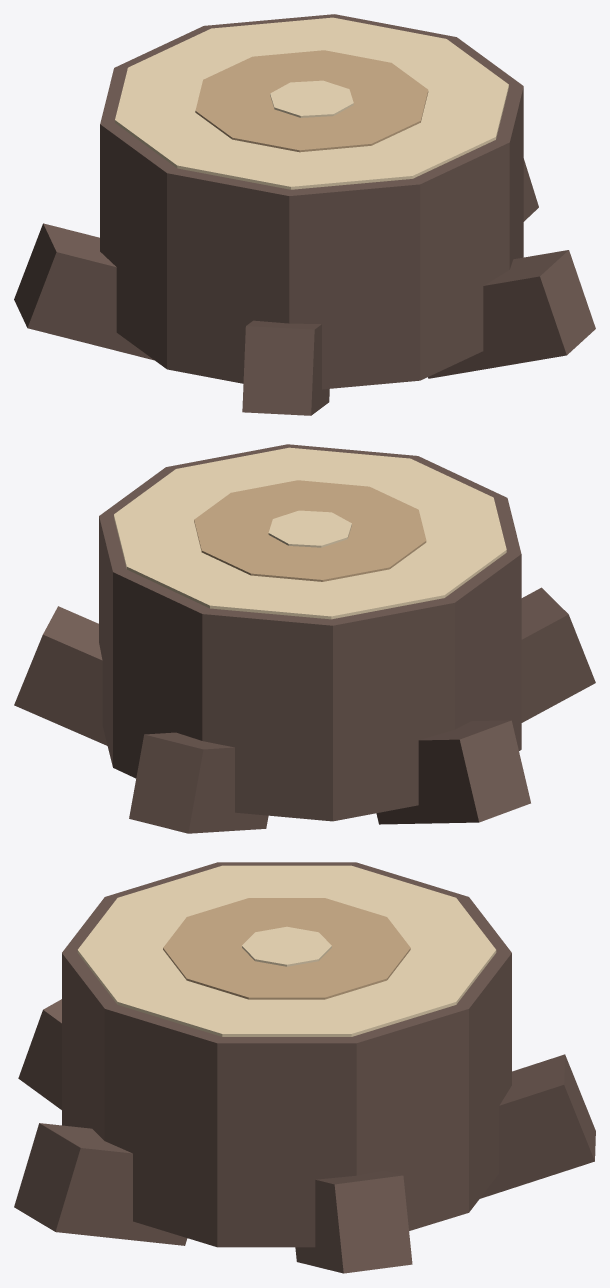
Rendered from Stump_Ember.fbx.
The picture shows the model from 3 angles, top to bottom: view 1: azimuth 30°, elevation 25°; view 2: azimuth 150°, elevation 25°; view 3: azimuth 270°, elevation 25°; orthographic projection. The views are drawn at different scales.
Parts seen in each view (by area): view 1: Stump_Ember_Mesh; view 2: Stump_Ember_Mesh; view 3: Stump_Ember_Mesh.
Boxes of the visible parts, box(x1,y1,x2,y2) form: Stump_Ember_Mesh: box(14, 14, 595, 415); Stump_Ember_Mesh: box(14, 444, 595, 833); Stump_Ember_Mesh: box(14, 862, 595, 1273).
Bounding box in the file's own units: 2.71 × 1.23 × 2.59.
